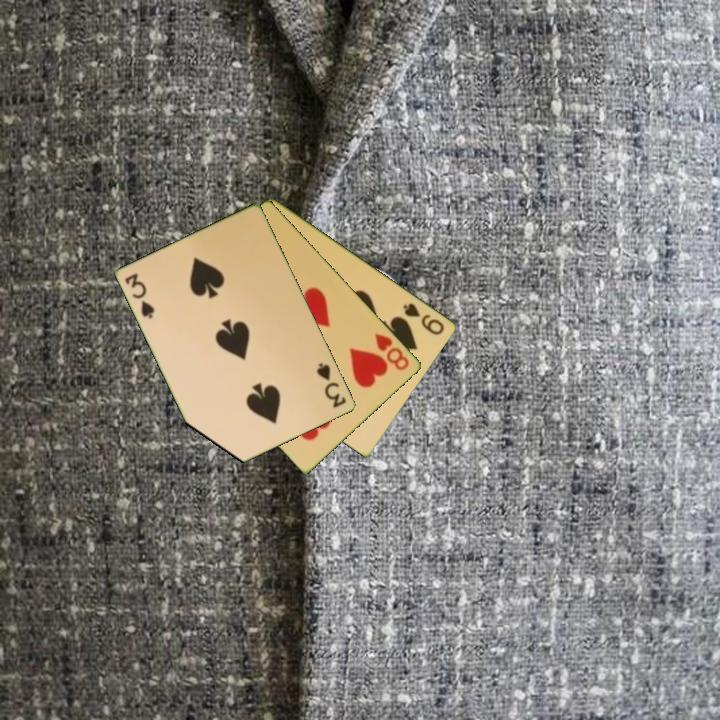3s: (313, 359, 349, 411), (122, 270, 158, 322)
8h: (372, 329, 412, 373)
9s: (399, 299, 448, 338)
